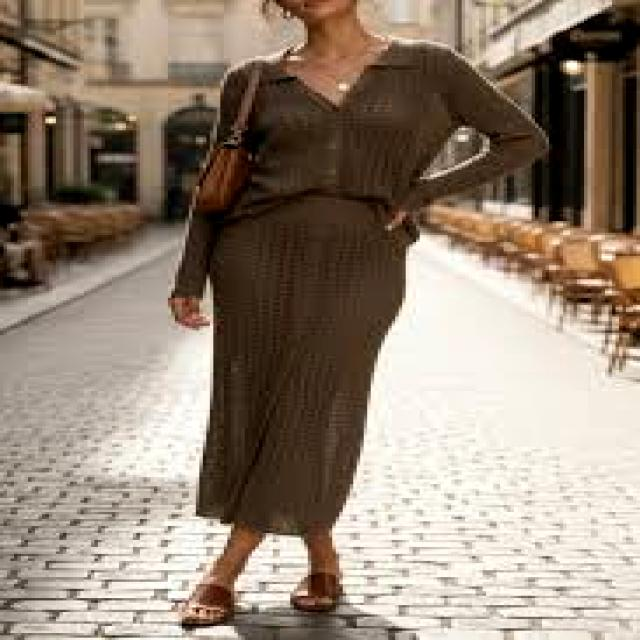lower-wear: (196, 194, 412, 535)
top-wear: (172, 38, 549, 297)
